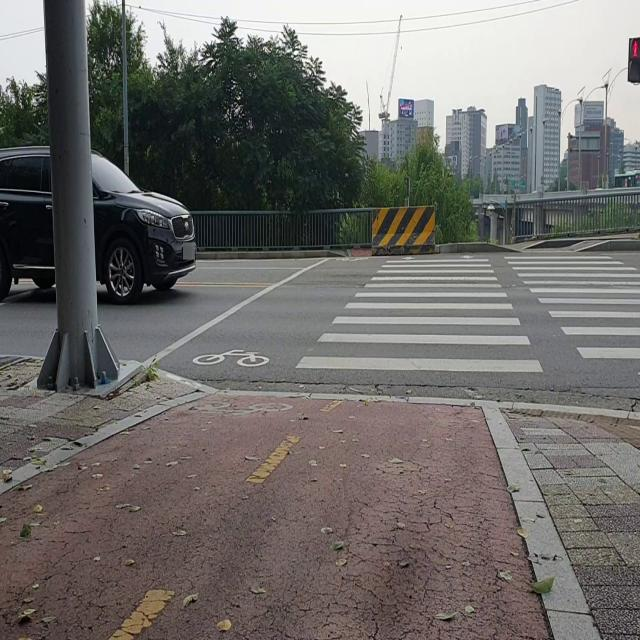빨간불: (628, 36, 640, 88)
횡단보도: (295, 253, 640, 377)
